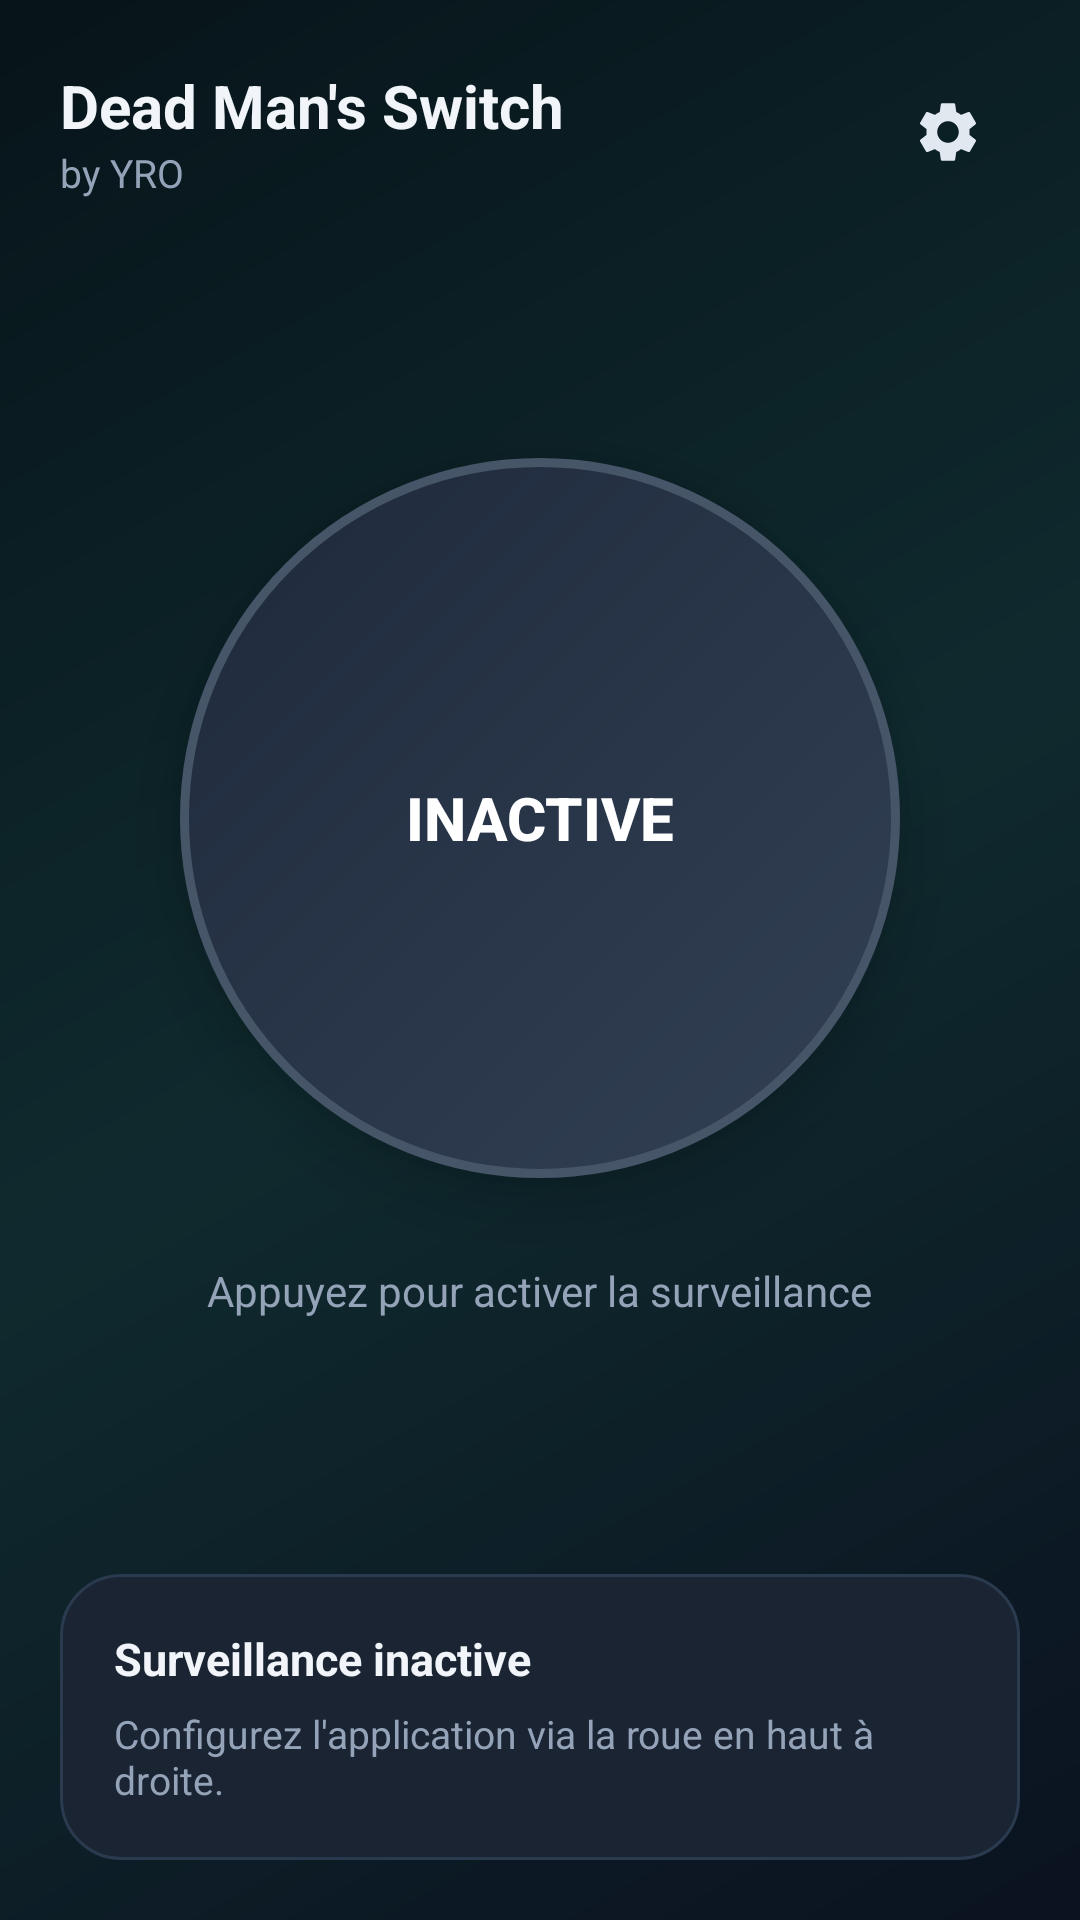

Where icons sit on this 1080*1920 app screen, as (x1, y1, x2, y2):
Réglages: (920, 103, 976, 161)
